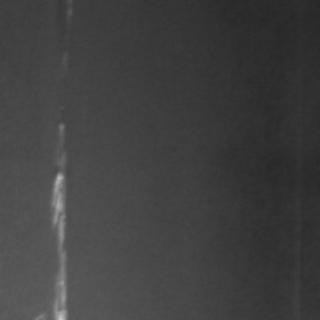scratches: (44, 120, 70, 318)
